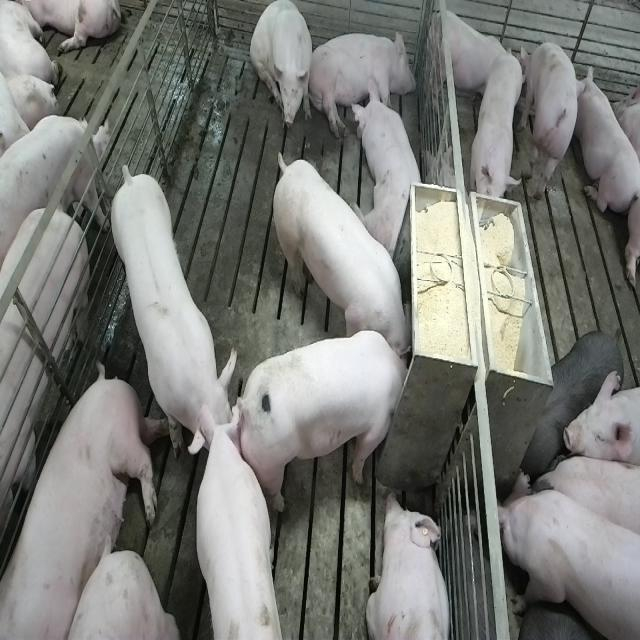Feeding: (244, 330, 419, 513), (268, 144, 411, 359)
Lateral_lying: (306, 28, 416, 142)
Sitting: (251, 1, 314, 134)
Standing: (109, 155, 244, 458), (0, 198, 92, 640), (498, 478, 638, 640), (188, 416, 282, 640), (0, 108, 107, 254), (525, 327, 623, 454), (531, 450, 637, 547), (522, 36, 581, 202), (468, 54, 524, 222)
Sternal_lying: (366, 490, 453, 640), (354, 87, 428, 260), (576, 64, 638, 214), (426, 5, 520, 103)
